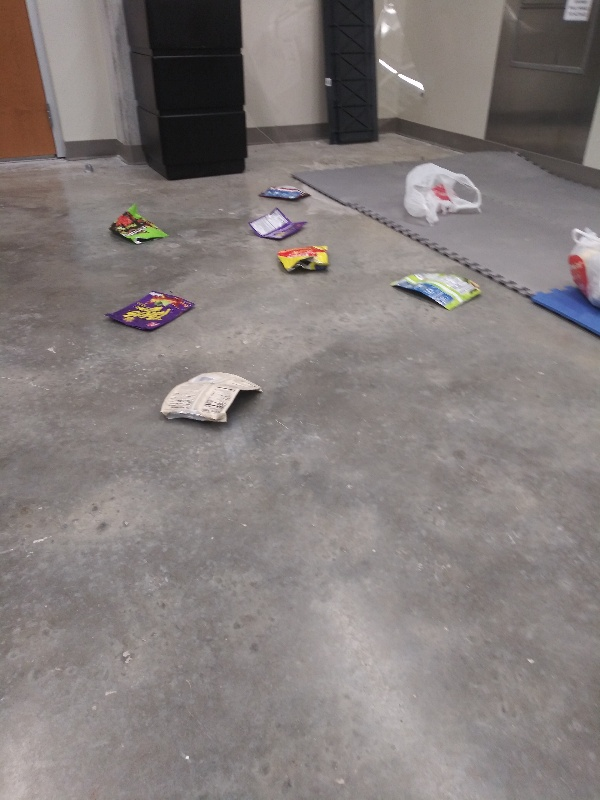bag: (155, 368, 267, 427), (105, 290, 199, 334), (386, 270, 486, 309), (108, 201, 173, 248), (243, 206, 312, 244), (271, 242, 335, 277), (253, 182, 314, 202)
